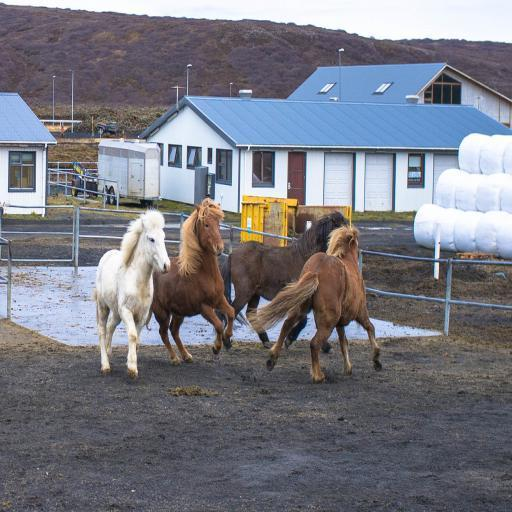horse: (244, 220, 385, 384), (214, 212, 362, 356), (143, 196, 236, 368), (94, 206, 172, 382)
